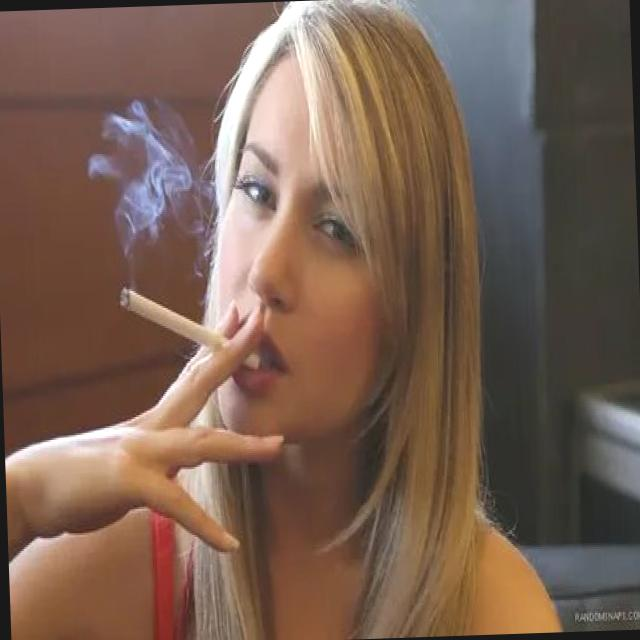cigarette: (116, 280, 262, 375)
